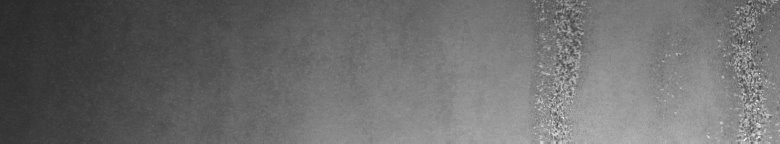hc: (662, 4, 776, 136)
